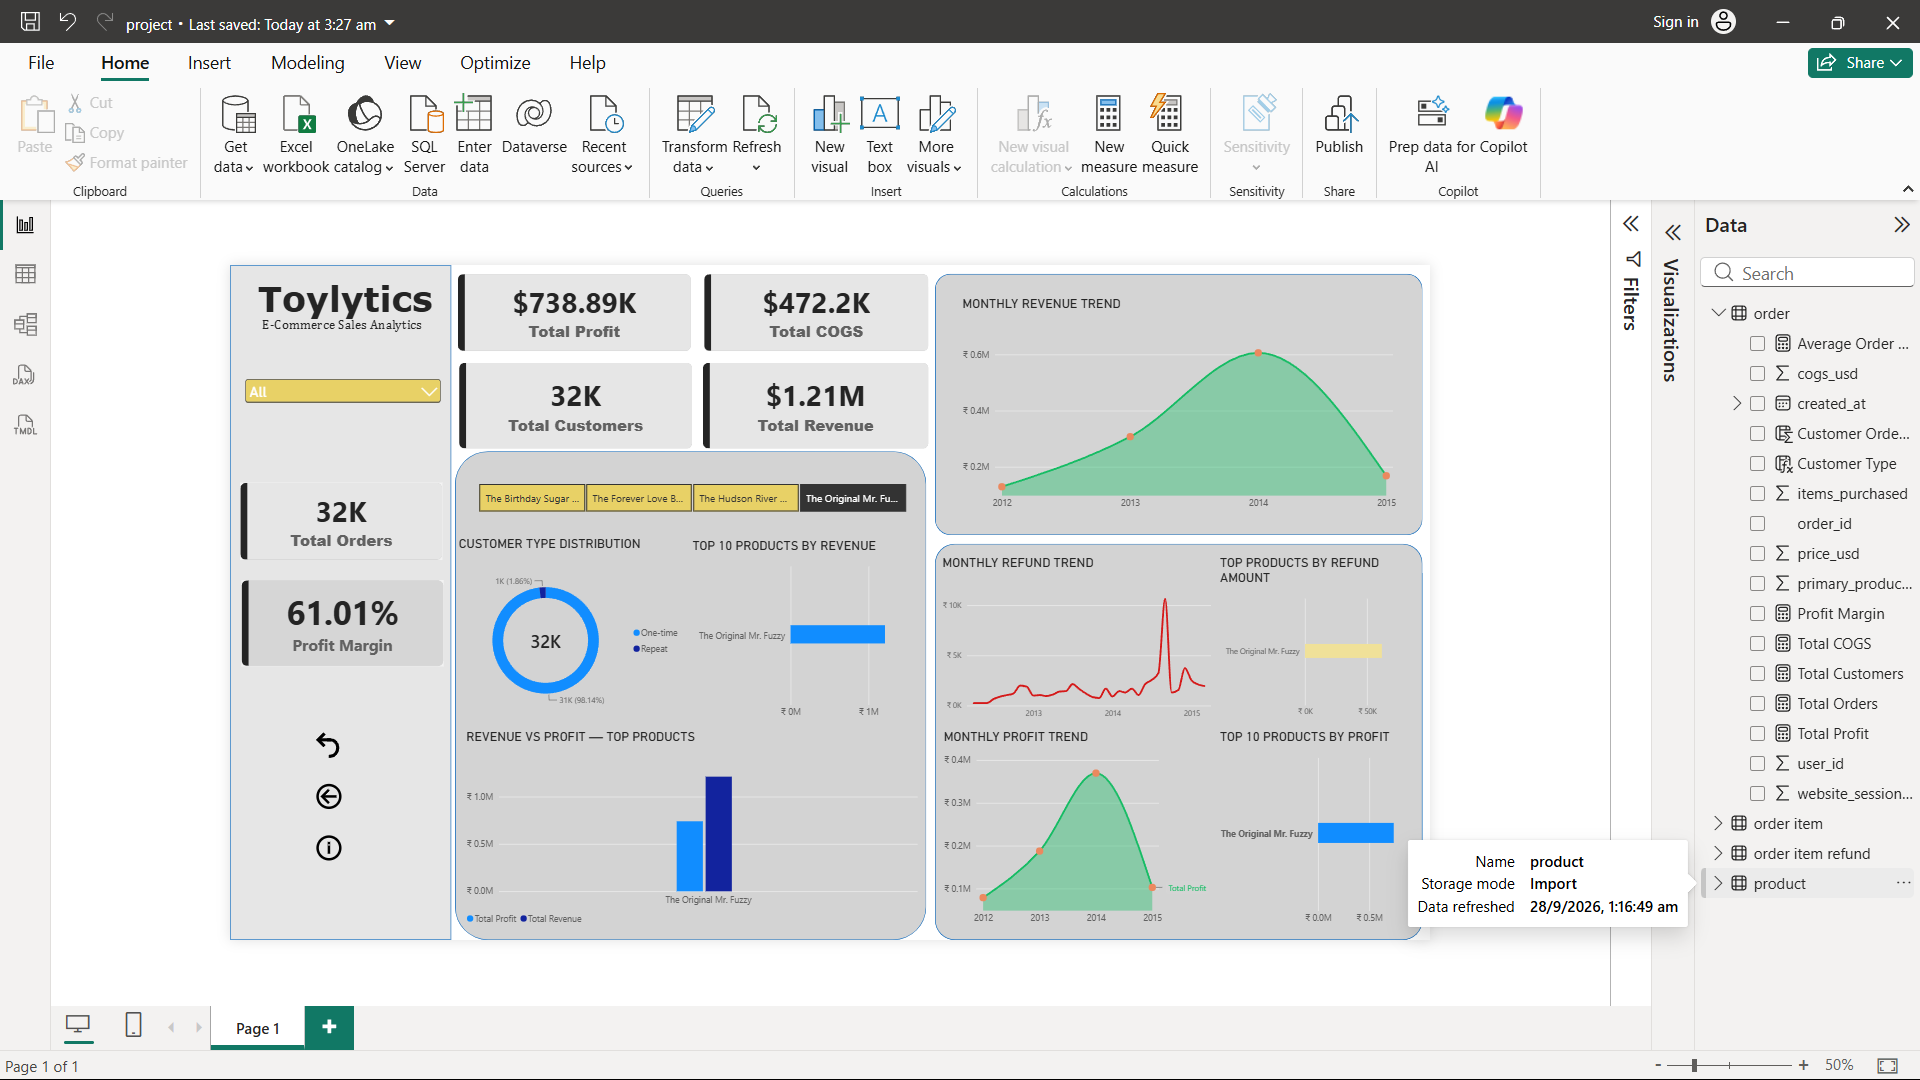

The page's visual inventory and layout, read from the dashboard file:
{"tool":"powerbi","page":{"name":"Page 1","canvas":[1920,1080],"ordinal":0},"visuals":[{"type":"shape","box":[1128,446,780,634],"z":0},{"type":"shape","box":[1128,14,780,418],"z":1000},{"type":"shape","box":[0,0,354,1080],"z":2000},{"type":"shape","box":[360,298,754,782],"z":3000},{"type":"cardVisual","fields":{"Data":["order.Total Profit"]},"box":[364,14,374,124],"z":4000},{"type":"cardVisual","fields":{"Data":["order.Total Orders"]},"box":[16,348,324,124],"z":5000},{"type":"cardVisual","fields":{"Data":["order.Total Customers"]},"box":[366,156,374,138],"z":6000},{"type":"cardVisual","fields":{"Data":["order.Total COGS"]},"box":[758,14,360,124],"z":7000},{"type":"cardVisual","fields":{"Data":["order item.Total Revenue"]},"box":[756,156,362,138],"z":8000},{"type":"lineChart","title":"MONTHLY REVENUE TREND","fields":{"Category":["order.created_at.Variation.Date Hierarchy.Year","order.created_at.Variation.Date Hierarchy.Quarter","order.created_at.Variation.Date Hierarchy.Month","order.created_at.Variation.Date Hierarchy.Day"],"Y":["order item.Total Revenue"]},"box":[1172,50,694,346],"z":9000},{"type":"lineChart","title":"MONTHLY PROFIT TREND","fields":{"Category":["order.created_at.Variation.Date Hierarchy.Year","order.created_at.Variation.Date Hierarchy.Quarter","order.created_at.Variation.Date Hierarchy.Month","order.created_at.Variation.Date Hierarchy.Day"],"Y":["order.Total Profit"]},"box":[1142,742,430,318],"z":10000},{"type":"donutChart","title":"CUSTOMER TYPE DISTRIBUTION","fields":{"Category":["order.Customer Type"],"Y":["order.Total Customers"]},"box":[366,434,360,294],"z":11000},{"type":"clusteredBarChart","title":"TOP 10 PRODUCTS BY PROFIT","fields":{"Category":["product.product_name"],"Y":["order.Total Profit"]},"box":[1584,742,310,318],"z":12000},{"type":"clusteredColumnChart","title":"REVENUE VS PROFIT — TOP PRODUCTS","fields":{"Category":["product.product_name"],"Y":["order.Total Profit","order item.Total Revenue"]},"box":[378,742,722,318],"z":13000},{"type":"barChart","title":"TOP 10 PRODUCTS BY REVENUE","fields":{"Category":["product.product_name"],"Y":["order item.Total Revenue"]},"box":[740,436,360,294],"z":14000},{"type":"barChart","title":"TOP PRODUCTS BY REFUND AMOUNT","fields":{"Category":["product.product_name"],"Y":["Sum(order item refund.refund_amount_usd)"]},"box":[1584,464,310,264],"z":15000},{"type":"lineChart","title":"MONTHLY REFUND TREND","fields":{"Category":["order item refund.created_at.Variation.Date Hierarchy.Year","order item refund.created_at.Variation.Date Hierarchy.Quarter","order item refund.created_at.Variation.Date Hierarchy.Month"],"Y":["Sum(order item refund.refund_amount_usd)"]},"box":[1140,464,432,266],"z":16000},{"type":"slicer","title":"year","fields":{"Values":["order.created_at.Variation.Date Hierarchy.Year"]},"box":[20,178,322,62],"z":17000},{"type":"slicer","fields":{"Values":["product.product_name"]},"box":[378,348,722,48],"z":18000},{"type":"textbox","box":[0,14,354,92],"z":19000},{"type":"textbox","box":[18,82,322,110],"z":20000},{"type":"cardVisual","fields":{"Data":["order.Profit Margin"]},"box":[18,504,324,138],"z":21000},{"type":"actionButton","box":[100,728,106,82],"z":22000},{"type":"actionButton","box":[48,780,212,142],"z":23000},{"type":"actionButton","box":[104,880,100,108],"z":24000}]}

Visuals, with their boxes on the page's 1920x1080 design canvas (x1, y1, x2, y2). These are canvas units, not pixel positions in the 1920x1080 screenshot, which may show the page scaled, cropped or inside an application window:
shape: 1128,446,1908,1080
shape: 1128,14,1908,432
shape: 0,0,354,1080
shape: 360,298,1114,1080
cardVisual - order.Total Profit: 364,14,738,138
cardVisual - order.Total Orders: 16,348,340,472
cardVisual - order.Total Customers: 366,156,740,294
cardVisual - order.Total COGS: 758,14,1118,138
cardVisual - order item.Total Revenue: 756,156,1118,294
"MONTHLY REVENUE TREND" lineChart: 1172,50,1866,396
"MONTHLY PROFIT TREND" lineChart: 1142,742,1572,1060
"CUSTOMER TYPE DISTRIBUTION" donutChart: 366,434,726,728
"TOP 10 PRODUCTS BY PROFIT" clusteredBarChart: 1584,742,1894,1060
"REVENUE VS PROFIT — TOP PRODUCTS" clusteredColumnChart: 378,742,1100,1060
"TOP 10 PRODUCTS BY REVENUE" barChart: 740,436,1100,730
"TOP PRODUCTS BY REFUND AMOUNT" barChart: 1584,464,1894,728
"MONTHLY REFUND TREND" lineChart: 1140,464,1572,730
"year" slicer: 20,178,342,240
slicer - product.product_name: 378,348,1100,396
textbox: 0,14,354,106
textbox: 18,82,340,192
cardVisual - order.Profit Margin: 18,504,342,642
actionButton: 100,728,206,810
actionButton: 48,780,260,922
actionButton: 104,880,204,988
